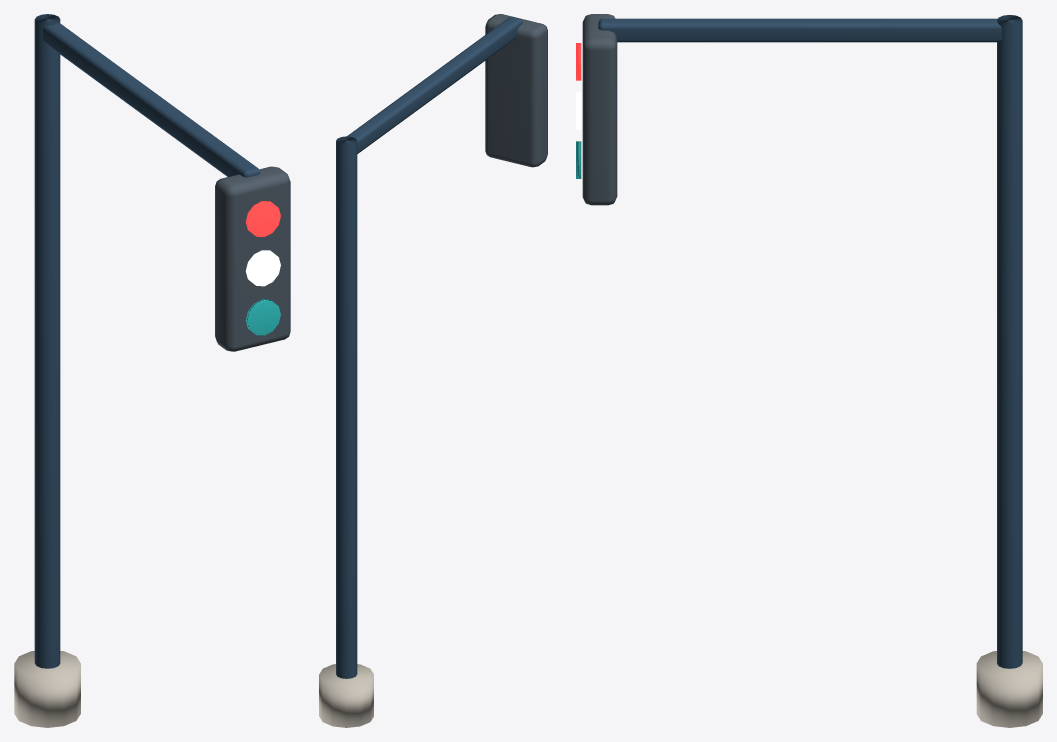
The model's file is HL_TrafficLight.fbx.
3 renders of one model, left to right at view 1: azimuth 30°, elevation 25°; view 2: azimuth 150°, elevation 25°; view 3: azimuth 270°, elevation 25°, orthographic. The views are drawn at different scales.
Parts seen in each view (by area): view 1: Signal | pole, Signal | three light housing, Signal | mast arm, Signal | concrete collar, Signal | lamp.002, Signal | lamp.001, Signal | lamp; view 2: Signal | pole, Signal | three light housing, Signal | mast arm, Signal | concrete collar; view 3: Signal | pole, Signal | mast arm, Signal | three light housing, Signal | concrete collar.
Boxes of the visible parts, x1,y1,x2,y2 form: Signal | pole: [34, 14, 60, 668]; Signal | three light housing: [215, 166, 290, 351]; Signal | mast arm: [43, 23, 260, 177]; Signal | concrete collar: [14, 651, 80, 727]; Signal | lamp.002: [245, 299, 280, 335]; Signal | lamp.001: [245, 250, 280, 286]; Signal | lamp: [246, 201, 280, 236]; Signal | pole: [336, 136, 357, 678]; Signal | three light housing: [485, 14, 547, 167]; Signal | mast arm: [347, 17, 522, 153]; Signal | concrete collar: [319, 664, 373, 727]; Signal | pole: [997, 15, 1022, 668]; Signal | mast arm: [598, 18, 1001, 42]; Signal | three light housing: [582, 14, 617, 205]; Signal | concrete collar: [976, 651, 1042, 727].
Size of the model in its own units: 50 by 508 by 310.
